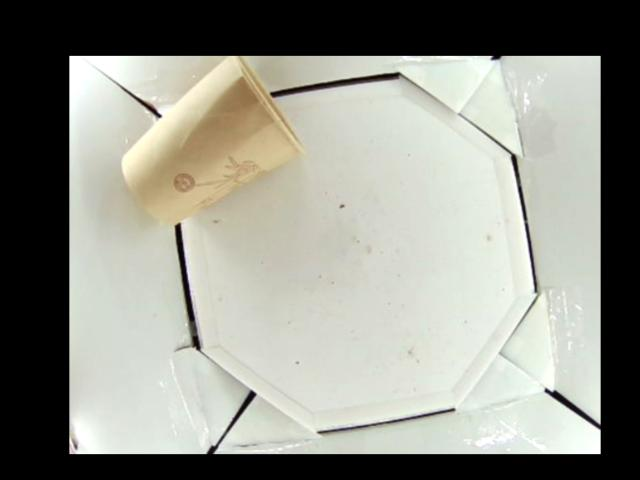Cup: (121, 56, 300, 228)
